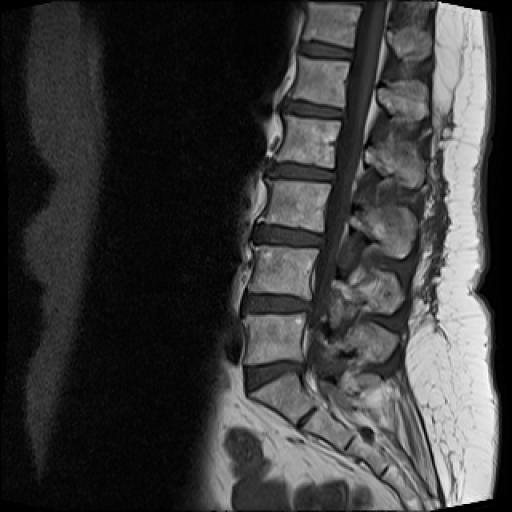L1: (293, 56, 350, 108)
L2: (278, 114, 341, 166)
L3: (266, 181, 331, 232)
L4: (249, 247, 318, 300)
L5: (244, 314, 304, 364)
S1: (250, 372, 314, 424)
